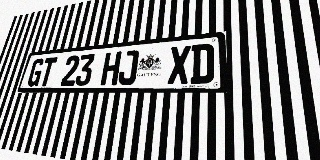2: (60, 55, 81, 86)
3: (74, 54, 95, 86)
D: (190, 43, 214, 84)
G: (26, 58, 45, 87)
H: (100, 51, 122, 85)
J: (117, 50, 139, 85)
T: (38, 57, 58, 86)
X: (167, 45, 191, 84)
